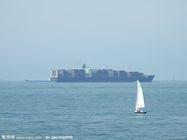Cargoship: (44, 59, 156, 87)
fanchuan: (132, 79, 150, 116)
